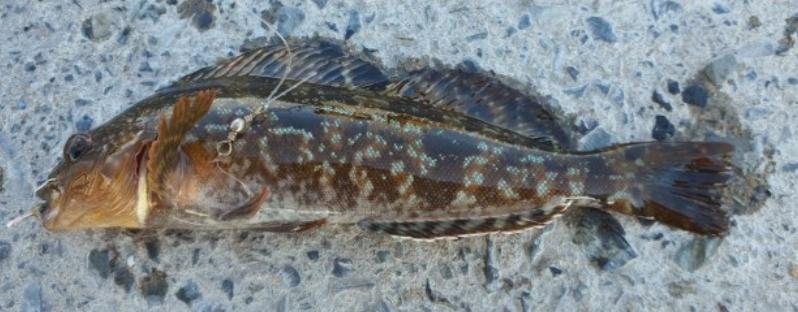fish: (37, 36, 732, 238)
